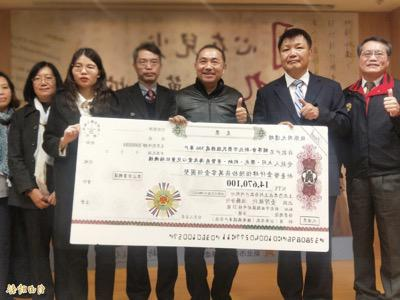without_mask: (279, 41, 309, 72), (359, 48, 389, 75), (196, 56, 224, 83), (71, 62, 99, 87), (134, 56, 161, 81), (32, 74, 57, 97), (0, 82, 13, 107)
